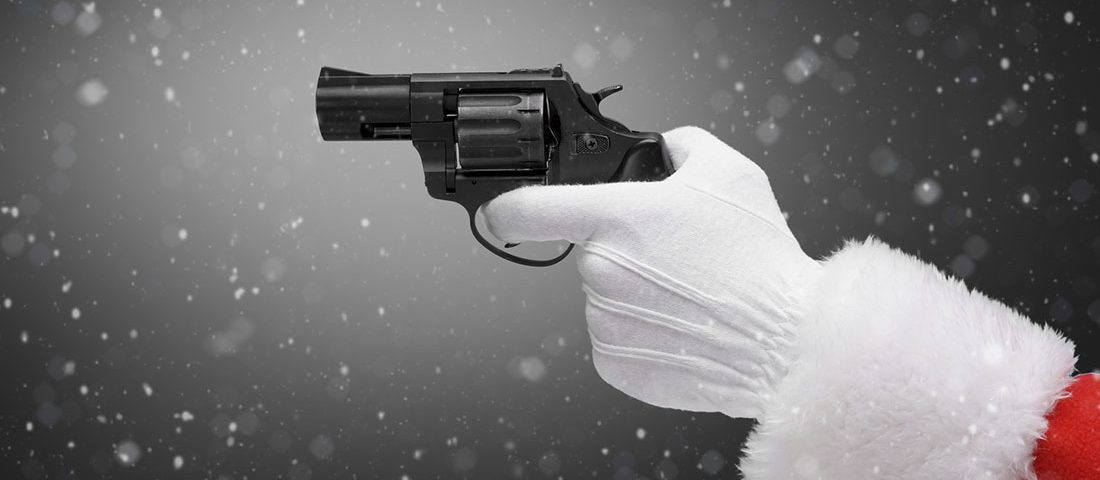pistol: (279, 46, 785, 421)
